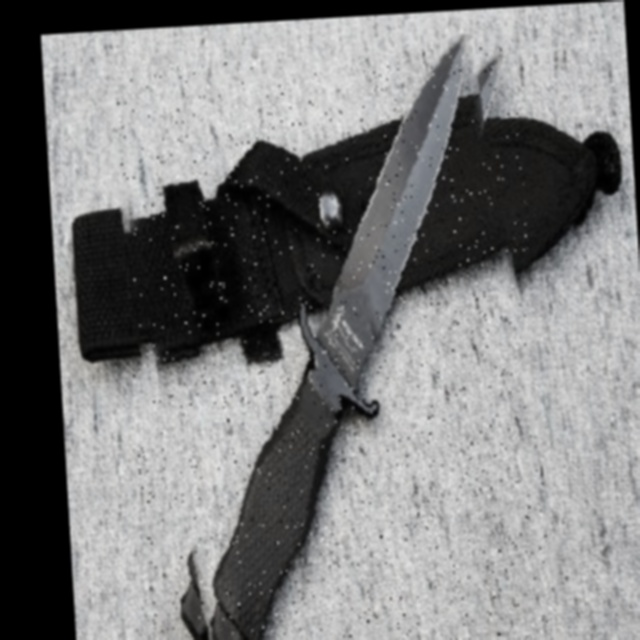Sharp-Object: (116, 44, 554, 640)
